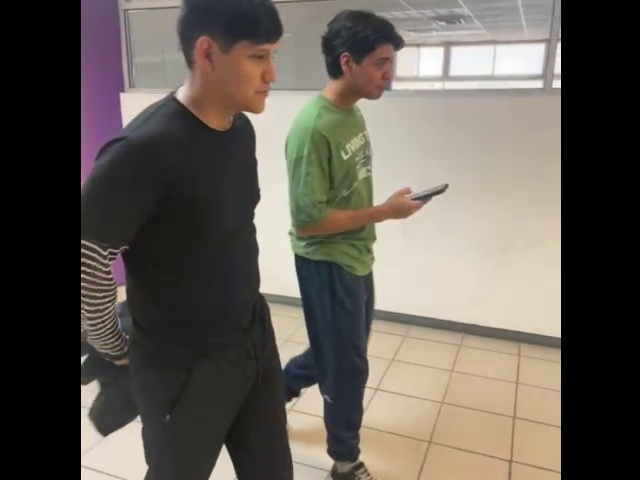mixto2: (409, 180, 455, 204)
